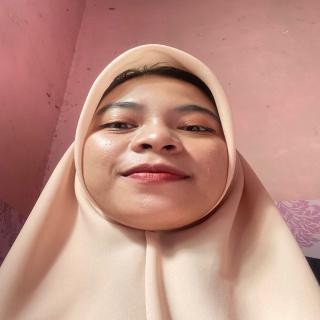Senang: (84, 70, 232, 235)
